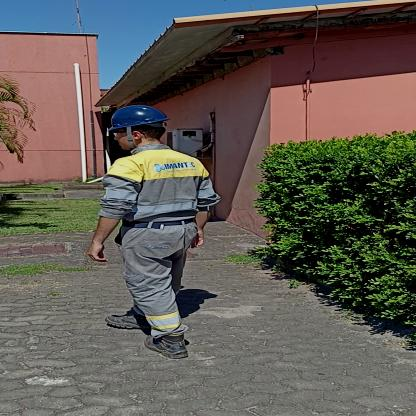Capacete: (103, 102, 175, 128)
